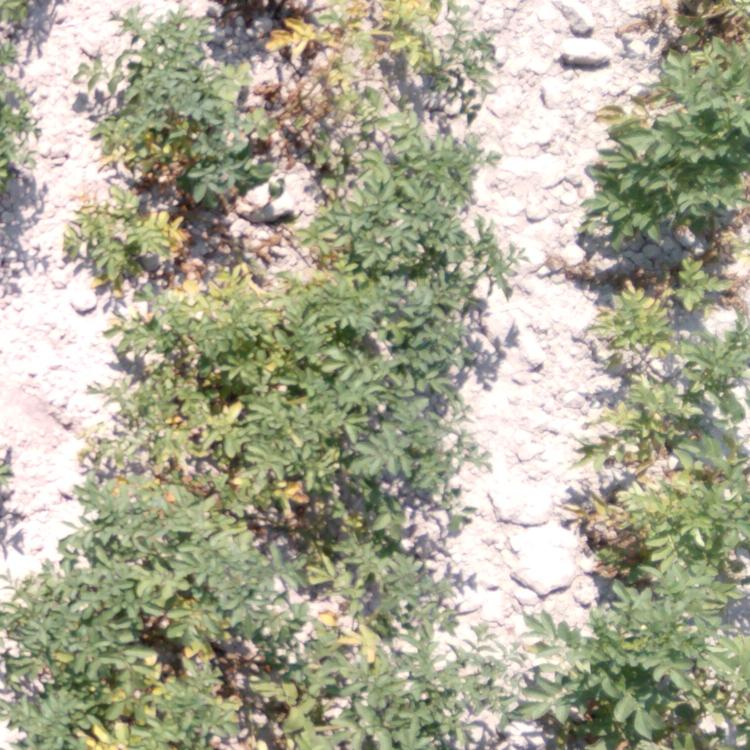healthy: (333, 125, 520, 285), (357, 283, 473, 517), (576, 620, 750, 748), (589, 123, 746, 256), (443, 612, 567, 750), (90, 4, 224, 113), (1, 564, 65, 750), (1, 1, 49, 191), (653, 52, 750, 122), (197, 115, 256, 192), (1, 441, 30, 547)
stressed: (86, 287, 357, 520), (65, 518, 287, 750), (286, 520, 439, 750), (571, 423, 750, 616), (260, 1, 491, 124), (597, 256, 749, 418), (62, 196, 200, 285), (208, 211, 331, 283), (101, 113, 194, 197), (684, 1, 747, 48)
